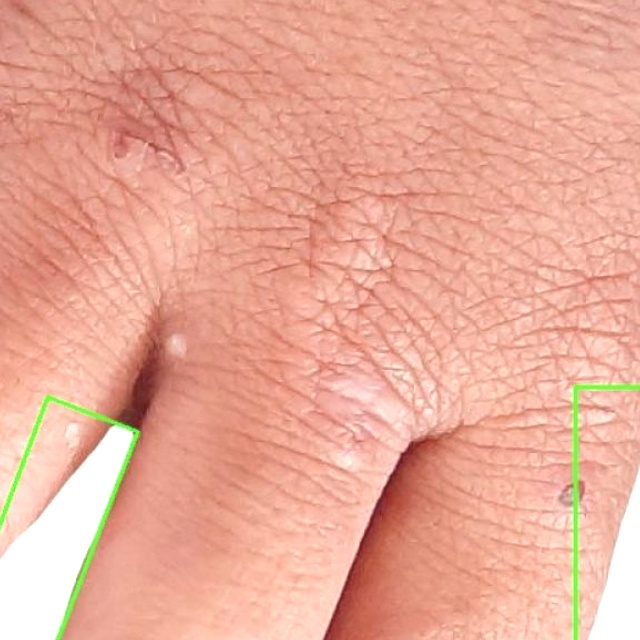Scabies: (0, 397, 140, 639)
